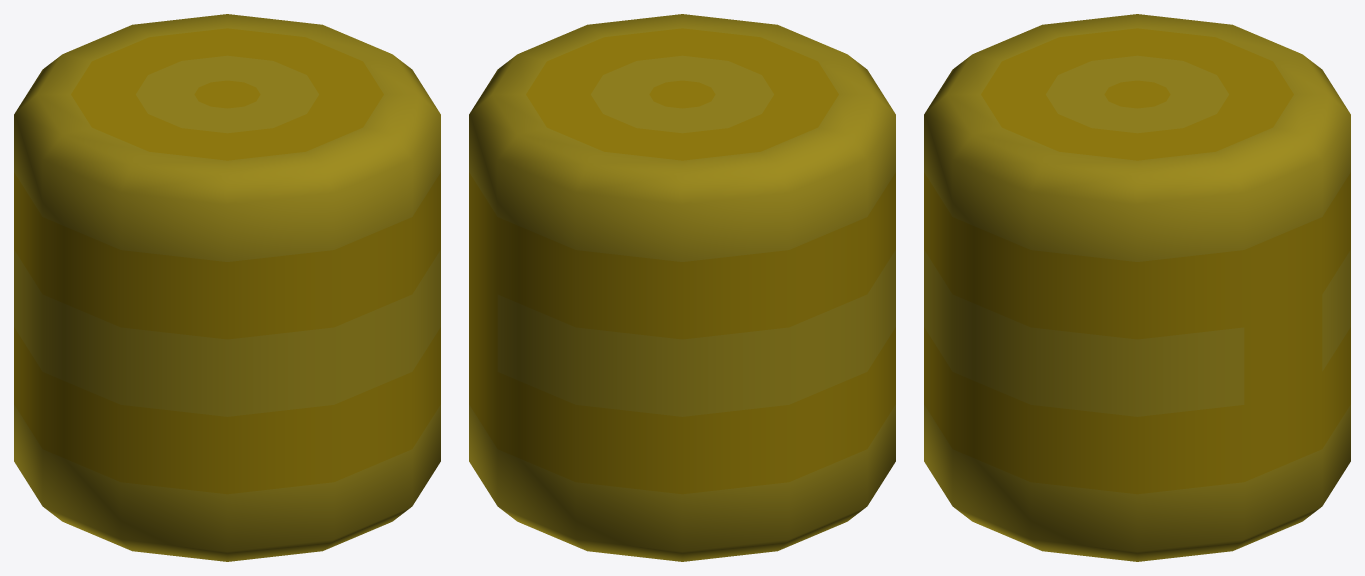
File: HayBale.fbx
The picture shows the model from 3 angles, left to right: view 1: azimuth 30°, elevation 25°; view 2: azimuth 150°, elevation 25°; view 3: azimuth 270°, elevation 25°; orthographic projection.
Visible parts, largest first — view 1: HayBale; view 2: HayBale; view 3: HayBale.
Boxes of the visible parts, x1,y1,x2,y2 form: HayBale: (14,14,440,561); HayBale: (469,14,895,561); HayBale: (924,14,1350,561).
Bounding box in the file's own units: 100 × 100 × 100.
